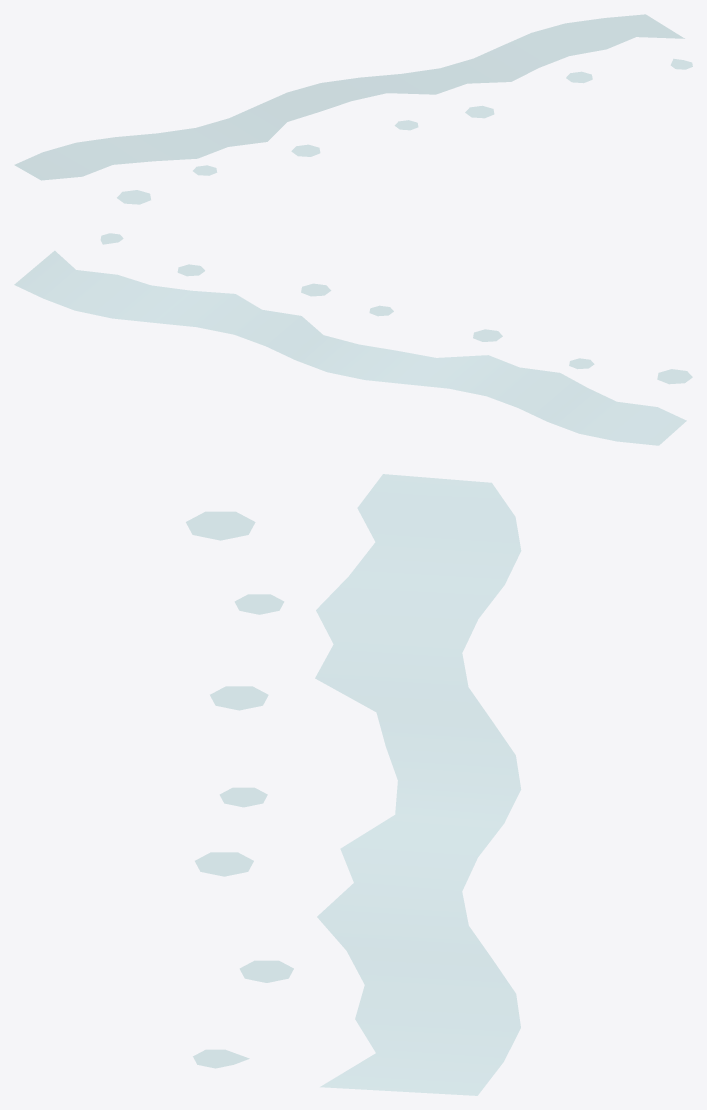
File: Espuma.fbx
3 views of the same model, one above another, from view 1: azimuth 30°, elevation 25°; view 2: azimuth 150°, elevation 25°; view 3: azimuth 270°, elevation 25° (orthographic). The views are drawn at different scales.
Parts seen in each view (by area): view 1: Espuma; view 2: Espuma; view 3: Espuma.
Boxes of the visible parts, <box> form: Espuma: <box>14,14,692,204</box>; Espuma: <box>14,233,692,445</box>; Espuma: <box>186,474,521,1095</box>.
Size of the model in its own units: 12 by 0.08 by 2.78.
Materials: 1 (1 with a texture image).
